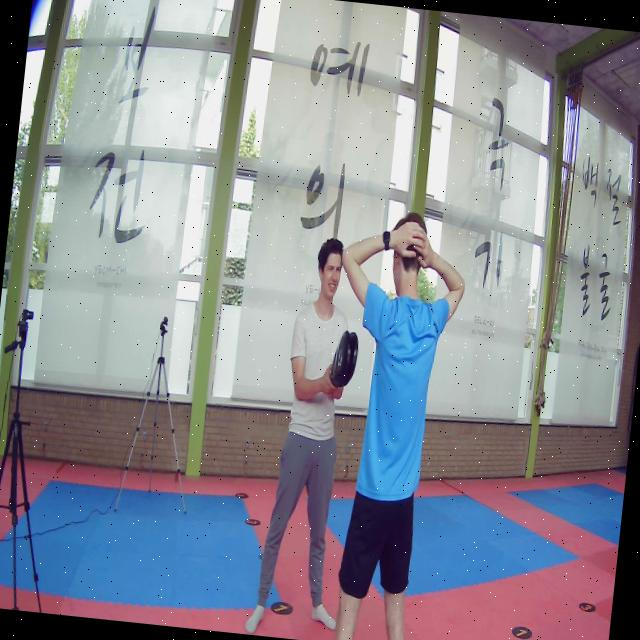paddle: (329, 330, 358, 386)
